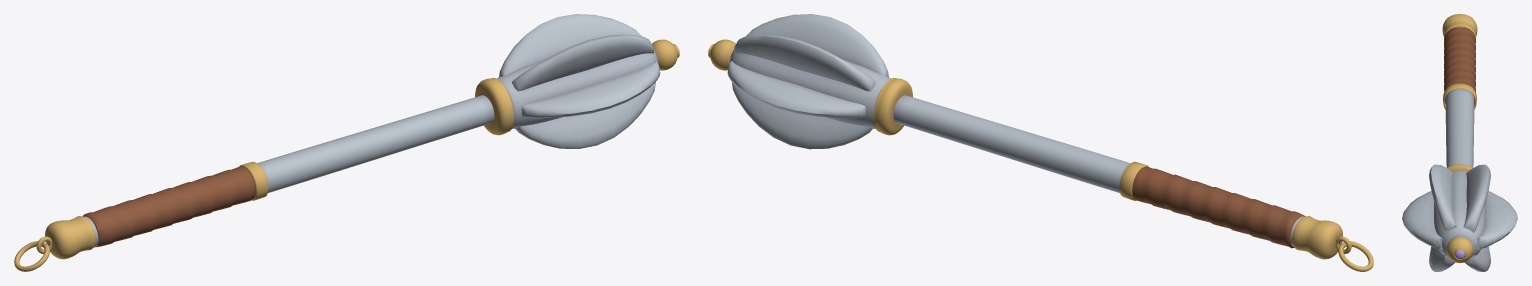
The model's file is mace.glb.
The picture shows the model from 3 angles, left to right: view 1: azimuth 30°, elevation 25°; view 2: azimuth 150°, elevation 25°; view 3: azimuth 270°, elevation 25°; orthographic projection. The views are drawn at different scales.
Visible parts, largest first — view 1: mace_body; view 2: mace_body; view 3: mace_body.
Part boxes in pixels (box(x1,y1,x2,y2)): mace_body: box(14, 14, 679, 271); mace_body: box(708, 14, 1373, 271); mace_body: box(1402, 14, 1517, 271).
Bounding box in the file's own units: 0.7361 × 0.112 × 0.1296.
Materials: 1 (1 with a texture image).
